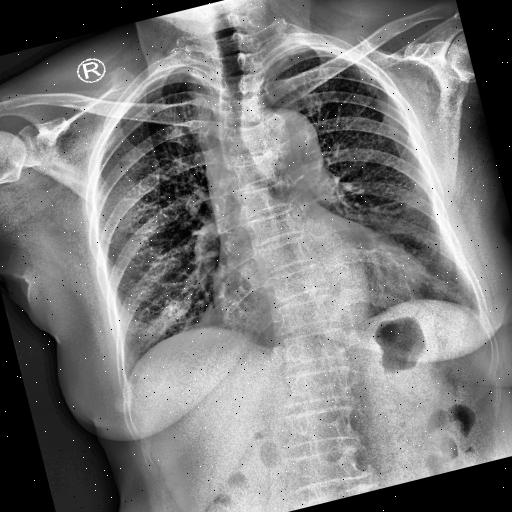0- Aortic enlargement: (150, 62, 449, 374), (180, 96, 352, 242), (240, 88, 344, 214)
3- Cardiomegaly: (150, 62, 449, 374)
